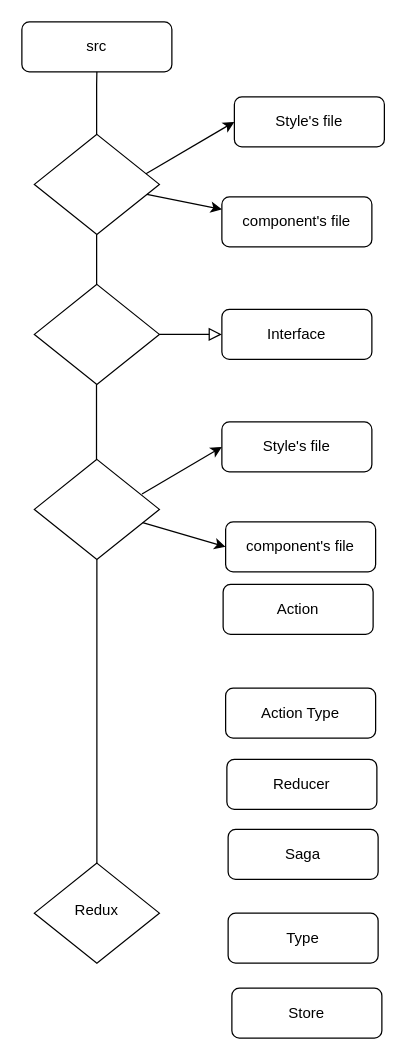
Some shapes in this 406 by 1060 pixel diagram are drawn without their labels. Each missing label, with the box of its shape:
Components: (33, 133, 159, 234)
Models: (33, 283, 159, 384)
Pages: (33, 458, 159, 559)
